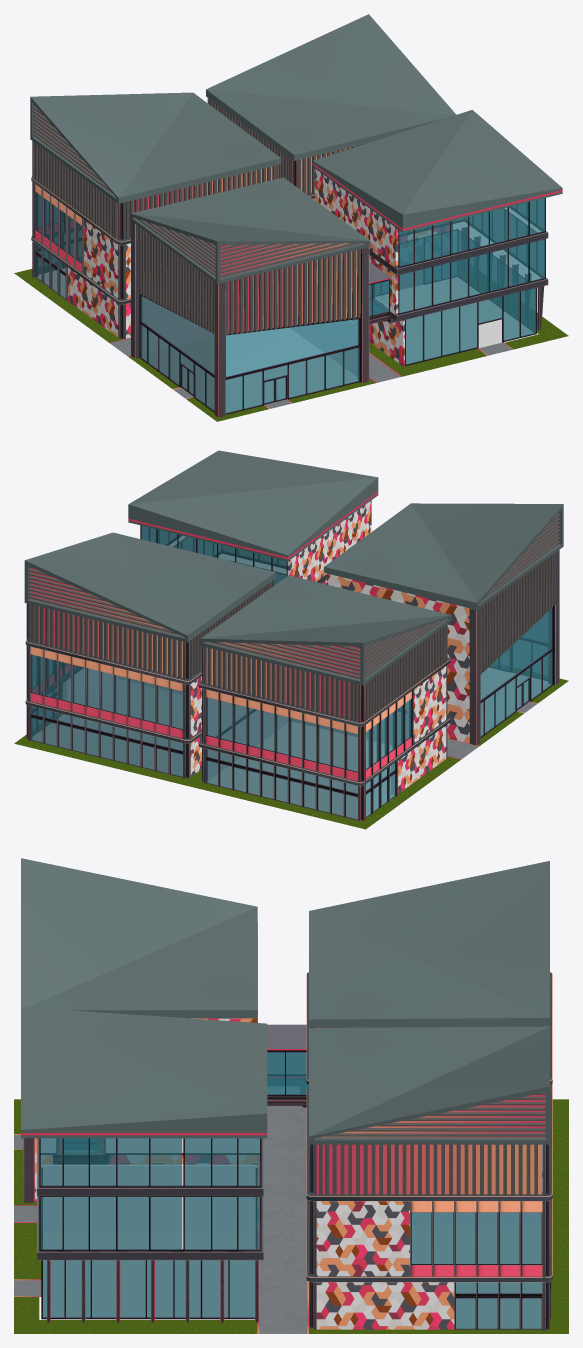
The model's file is TeachingCommunityVenue.glb.
The picture shows the model from 3 angles, top to bottom: view 1: azimuth 30°, elevation 25°; view 2: azimuth 150°, elevation 25°; view 3: azimuth 270°, elevation 25°; orthographic projection. The views are drawn at different scales.
Parts seen in each view (by area): view 1: TCV_LectureTheatreRoof1.001, TCV_LectureTheatreRoof1, TCV_TeachingRoomsRoof, TCV_WelcomeZoneStructureRoof, polySurface981, TCV_WelcomeZoneGlass00, TCV_WelcomeZoneWoodPanels1, TCV_TeachingRoomsGroundfloorGlass, TCV_TeachingRoomsFirstfloorGlass, polySurface955, TCV_LectureTheatreWoodPanel3, TCV_TeachingRoomsWalls (+25 smaller); view 2: TCV_WelcomeZoneStructureRoof, TCV_LectureTheatreRoof1.001, TCV_TeachingRoomsRoof, TCV_LectureTheatreRoof1, TCV_LectureTheatreWoodPanel3, TCV_LectureTheatreWoodPanel3.001, TCV_LectureTheatreWalls, TCV_LecturerTheatre02FirstfloorGlass, TCV_LectureTheatreFirstFloorWindowsFrame, polySurface983, TCV_LecturerTheatre02FirstfloorGlass.001, TCV_LecturerTheatre01GroundfloorGlass (+25 smaller); view 3: TCV_LectureTheatreRoof1, TCV_WelcomeZoneStructureRoof, TCV_TeachingRoomsRoof, TCV_LectureTheatreRoof1.001, TCV_LectureTheatreWalls.001, polySurface955, TCV_TeachingRoomsWalls, TCV_LectureTheatreWoodPanel3.001, TCV_Paths, TCV_Grass, TCV_TeachingRoomsFirstfloorGlass, TCV_TeachingRoomsGroundfloorGlass (+22 smaller).
Part boxes in pixels (x1,y1,x2,y2): TCV_LectureTheatreRoof1.001: [206, 14, 456, 160]; TCV_LectureTheatreRoof1: [30, 92, 281, 203]; TCV_TeachingRoomsRoof: [312, 110, 562, 232]; TCV_WelcomeZoneStructureRoof: [130, 177, 370, 283]; polySurface981: [142, 328, 357, 412]; TCV_WelcomeZoneGlass00: [225, 319, 359, 413]; TCV_WelcomeZoneWoodPanels1: [225, 249, 361, 335]; TCV_TeachingRoomsGroundfloorGlass: [375, 230, 535, 364]; TCV_TeachingRoomsFirstfloorGlass: [399, 209, 544, 313]; polySurface955: [376, 277, 533, 363]; TCV_LectureTheatreWoodPanel3: [35, 143, 276, 238]; TCV_TeachingRoomsWalls: [314, 168, 404, 366]; TCV_WelcomeZoneStructureRoof: [324, 503, 563, 609]; TCV_LectureTheatreRoof1.001: [24, 532, 275, 642]; TCV_TeachingRoomsRoof: [128, 450, 378, 561]; TCV_LectureTheatreRoof1: [200, 575, 451, 685]; TCV_LectureTheatreWoodPanel3: [206, 624, 447, 721]; TCV_LectureTheatreWoodPanel3.001: [31, 581, 271, 678]; TCV_LectureTheatreWalls: [208, 666, 446, 795]; TCV_LecturerTheatre02FirstfloorGlass: [206, 697, 410, 771]; TCV_LectureTheatreFirstFloorWindowsFrame: [205, 689, 413, 780]; polySurface983: [32, 679, 182, 776]; TCV_LecturerTheatre02FirstfloorGlass.001: [31, 655, 182, 729]; TCV_LecturerTheatre01GroundfloorGlass: [206, 749, 395, 819]; TCV_LectureTheatreRoof1: [309, 861, 549, 1027]; TCV_WelcomeZoneStructureRoof: [21, 858, 257, 1018]; TCV_TeachingRoomsRoof: [21, 1007, 267, 1138]; TCV_LectureTheatreRoof1.001: [309, 1026, 549, 1144]; TCV_LectureTheatreWalls.001: [316, 1145, 542, 1329]; polySurface955: [43, 1231, 255, 1316]; TCV_TeachingRoomsWalls: [41, 1138, 259, 1231]; TCV_LectureTheatreWoodPanel3.001: [316, 1144, 541, 1195]; TCV_Paths: [14, 1106, 308, 1333]; TCV_Grass: [14, 1099, 568, 1333]; TCV_TeachingRoomsFirstfloorGlass: [40, 1197, 259, 1249]; TCV_TeachingRoomsGroundfloorGlass: [43, 1260, 254, 1317].
Size of what is drawn, in the model's own units: 48 by 23.37 by 48.
Materials: 12 (10 with a texture image).
